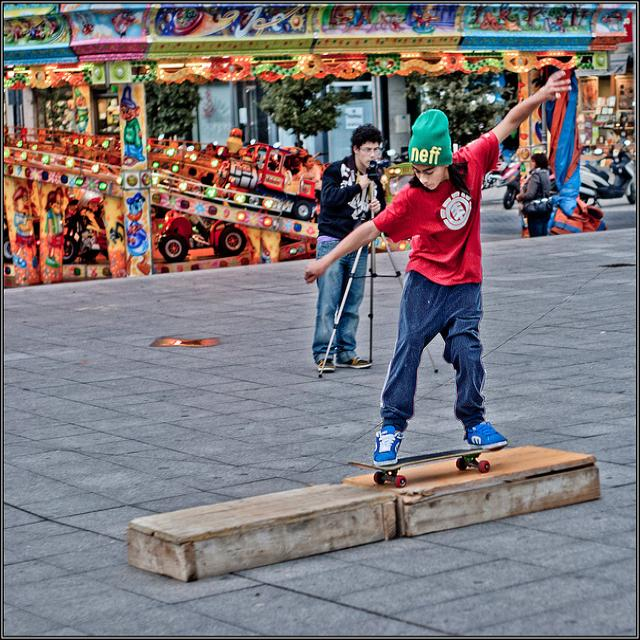motor: (579, 139, 635, 207)
